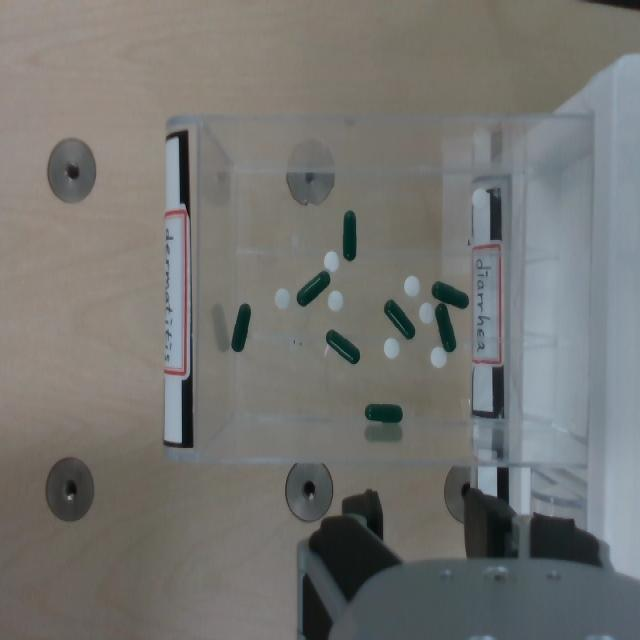ganakan_tab: (403, 273, 421, 298), (323, 249, 340, 273), (274, 286, 291, 310), (383, 338, 400, 359), (431, 346, 447, 367), (328, 290, 343, 311), (419, 302, 434, 323)
monodoxy_cap: (384, 297, 416, 340), (325, 327, 361, 365), (297, 268, 332, 307), (296, 269, 330, 305), (384, 300, 414, 339), (326, 329, 359, 364), (432, 280, 470, 309), (435, 302, 457, 352), (231, 301, 252, 353), (432, 281, 468, 308), (435, 304, 455, 351), (231, 304, 250, 352), (365, 401, 404, 424), (343, 209, 358, 262), (365, 404, 402, 423), (343, 211, 356, 260)
